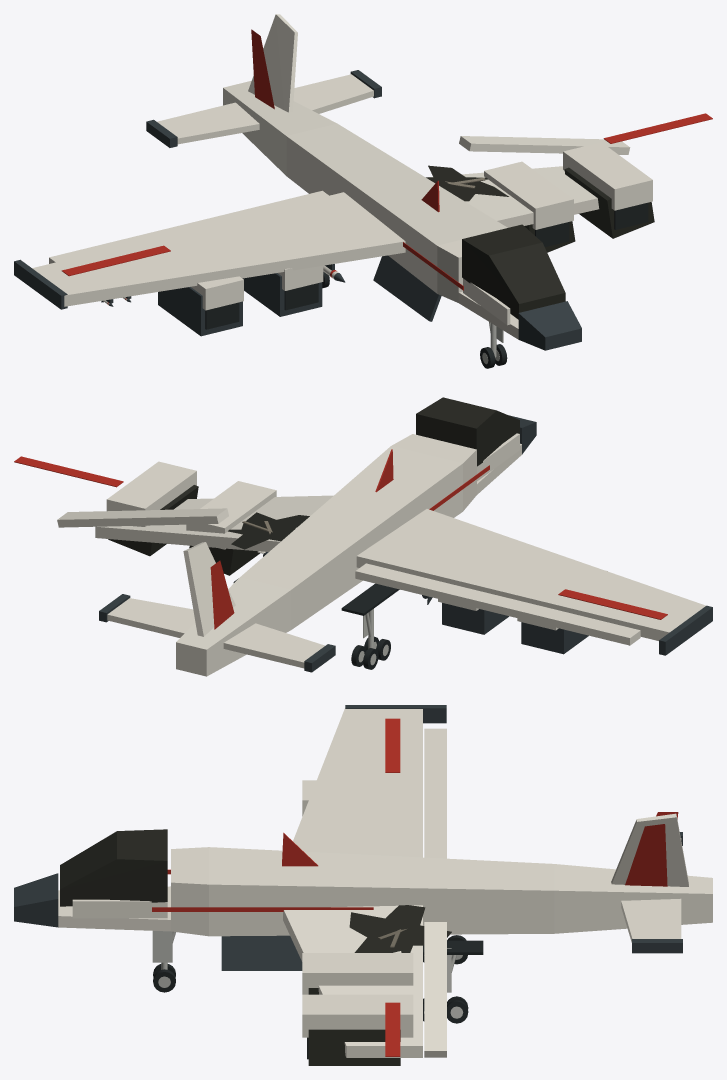
3 renders of one model, top to bottom at view 1: azimuth 30°, elevation 25°; view 2: azimuth 150°, elevation 25°; view 3: azimuth 270°, elevation 25°, orthographic. The views are drawn at different scales.
Parts seen in each view (by area): view 1: bomber-damaged-fleet-armor, bomber-damaged-fleet-machine, bomber-damaged-fleet-damage-charred, bomber-damaged-fleet-red, bomber-damaged-fleet-rubber, flap-right-painted, flap-left-painted; view 2: bomber-damaged-fleet-armor, bomber-damaged-fleet-damage-charred, flap-left-painted, bomber-damaged-fleet-machine, bomber-damaged-fleet-red, flap-right-painted, bomber-damaged-fleet-rubber; view 3: bomber-damaged-fleet-armor, bomber-damaged-fleet-damage-charred, bomber-damaged-fleet-machine, bomber-damaged-fleet-red, flap-right-painted, flap-left-painted, landing-gear-nose-fleet-edge, bomber-damaged-fleet-rubber.
Boxes of the visible parts, left/top/right/bottom form: bomber-damaged-fleet-armor: left=32, top=14, right=652, bottom=339; bomber-damaged-fleet-machine: left=14, top=70, right=581, bottom=350; bomber-damaged-fleet-damage-charred: left=426, top=165, right=654, bottom=319; bomber-damaged-fleet-red: left=61, top=29, right=712, bottom=290; bomber-damaged-fleet-rubber: left=205, top=202, right=648, bottom=329; flap-right-painted: left=459, top=136, right=630, bottom=154; flap-left-painted: left=49, top=190, right=328, bottom=263; bomber-damaged-fleet-armor: left=95, top=433, right=705, bottom=676; bomber-damaged-fleet-damage-charred: left=108, top=397, right=519, bottom=575; flap-left-painted: left=355, top=563, right=640, bottom=645; bomber-damaged-fleet-machine: left=99, top=415, right=712, bottom=672; bomber-damaged-fleet-red: left=14, top=449, right=667, bottom=629; flap-right-painted: left=57, top=508, right=228, bottom=527; bomber-damaged-fleet-rubber: left=233, top=578, right=399, bottom=615; bomber-damaged-fleet-armor: left=58, top=708, right=712, bottom=1057; bomber-damaged-fleet-damage-charred: left=60, top=829, right=451, bottom=1065; bomber-damaged-fleet-machine: left=14, top=705, right=682, bottom=970; bomber-damaged-fleet-red: left=152, top=718, right=678, bottom=1056; flap-right-painted: left=424, top=922, right=446, bottom=1057; flap-left-painted: left=424, top=728, right=446, bottom=858; landing-gear-nose-fleet-edge: left=152, top=931, right=175, bottom=969; bomber-damaged-fleet-rubber: left=307, top=940, right=483, bottom=1059.
Bounding box in the file's own units: 150 × 37.06 × 126.
